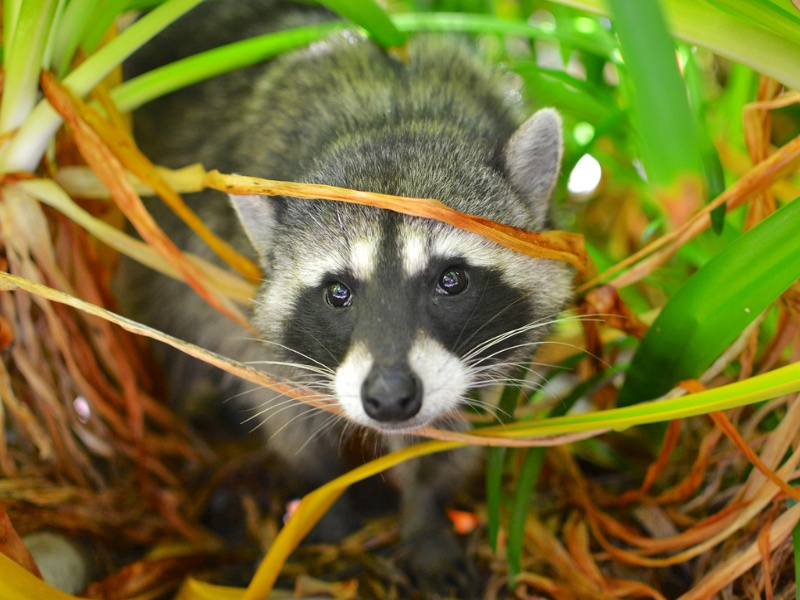raccoon: (120, 9, 578, 587)
